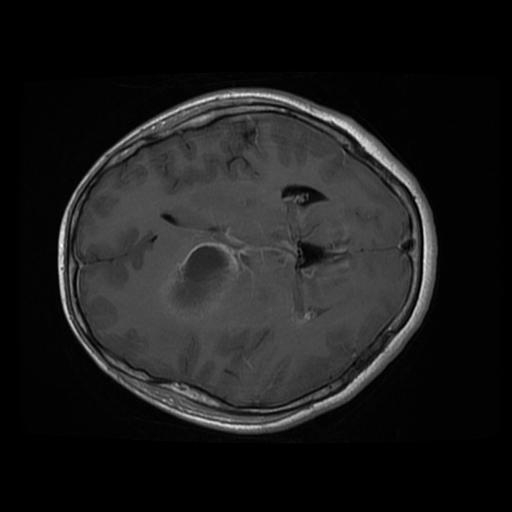glioma: (156, 239, 241, 322)
